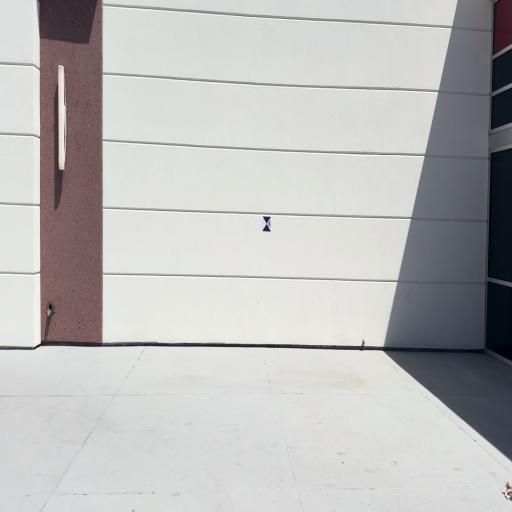target4: (262, 216, 272, 232)
